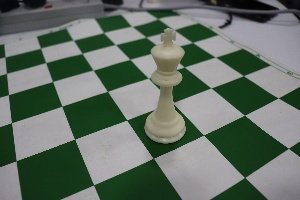white_king: (135, 21, 193, 145)
